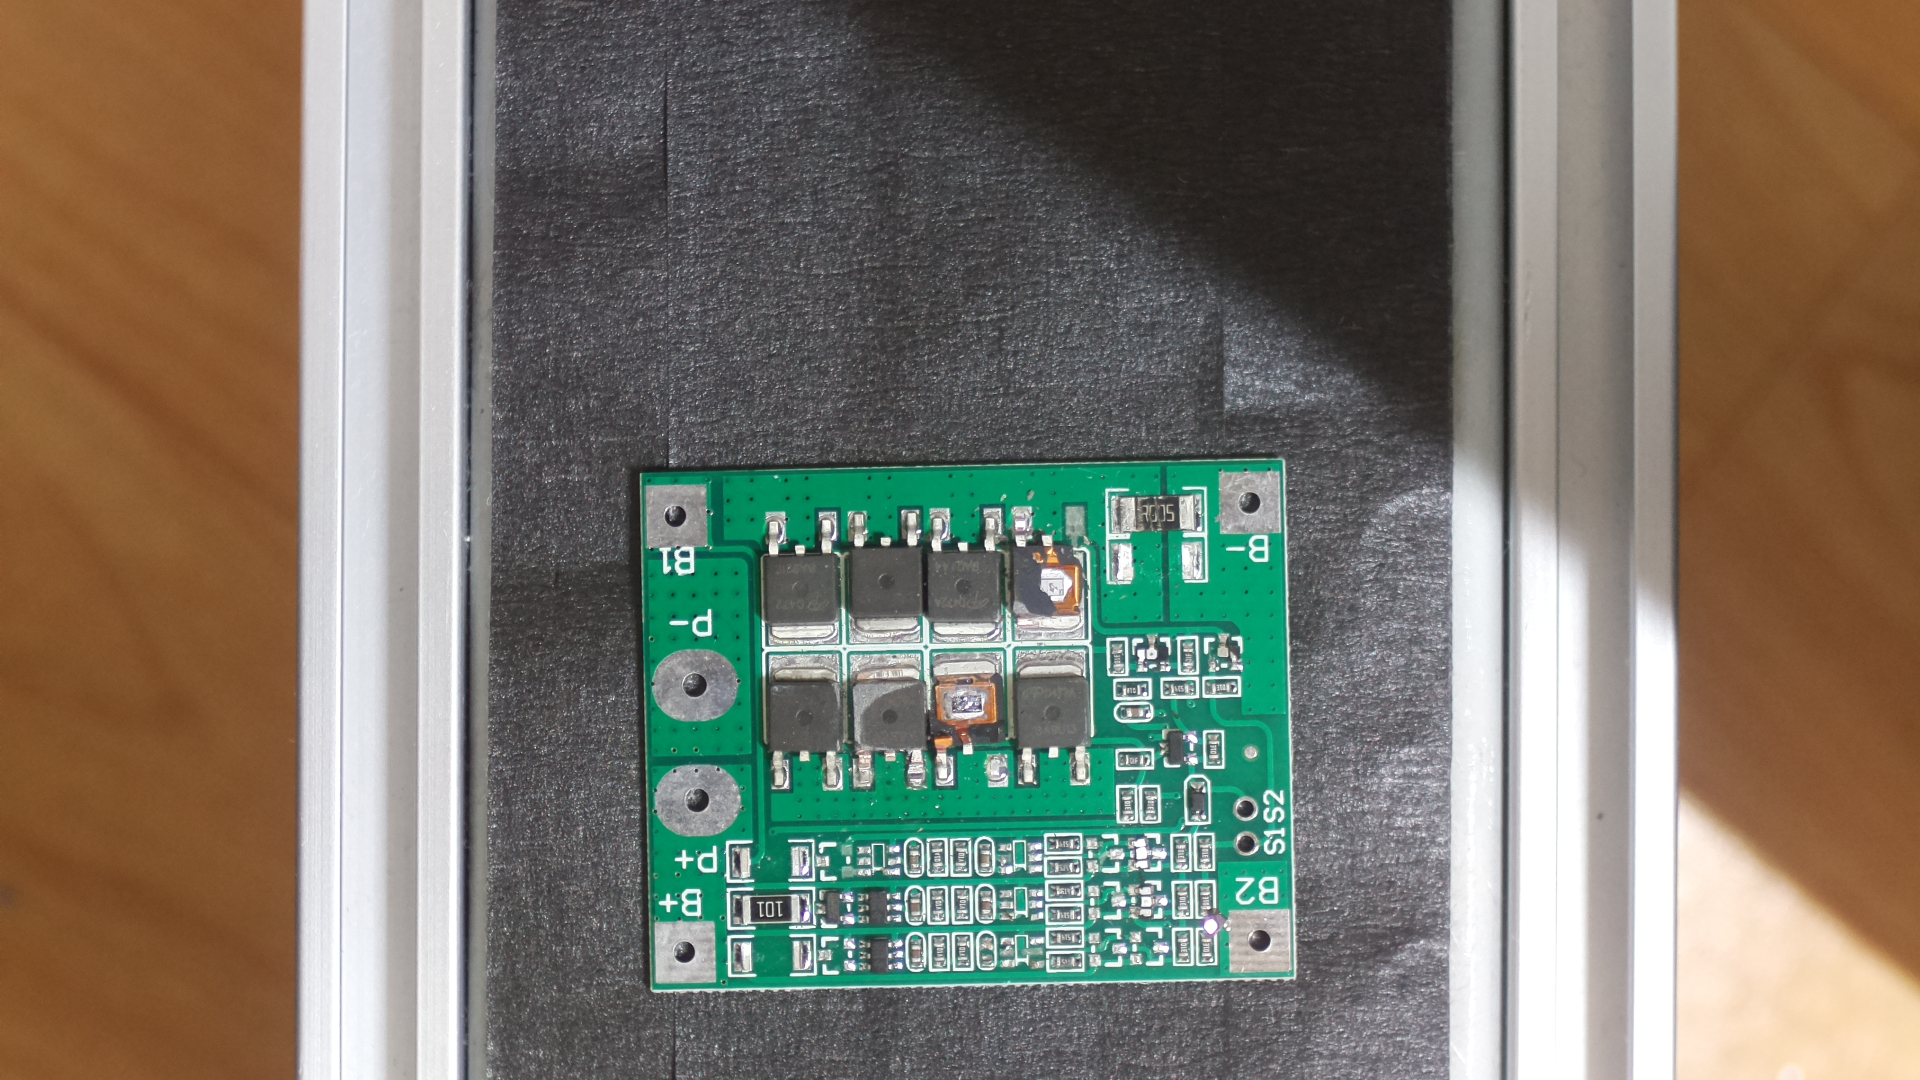C_Missing_part: (622, 440, 1309, 1014)
